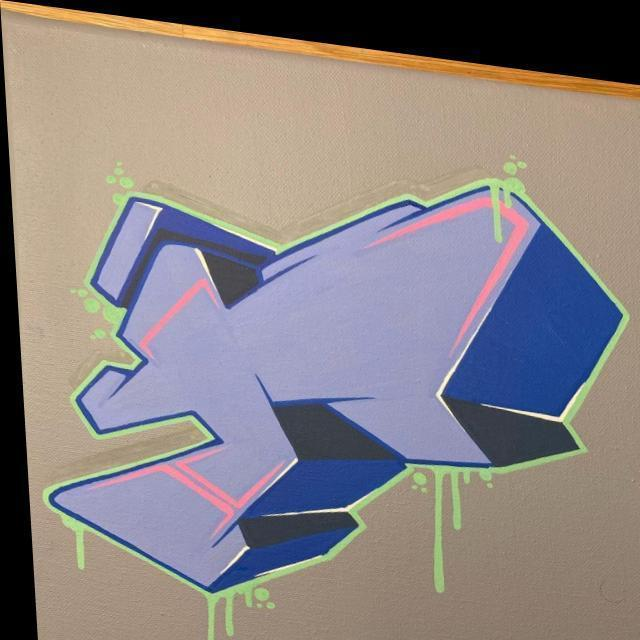nonspitting: (47, 182, 622, 596)
